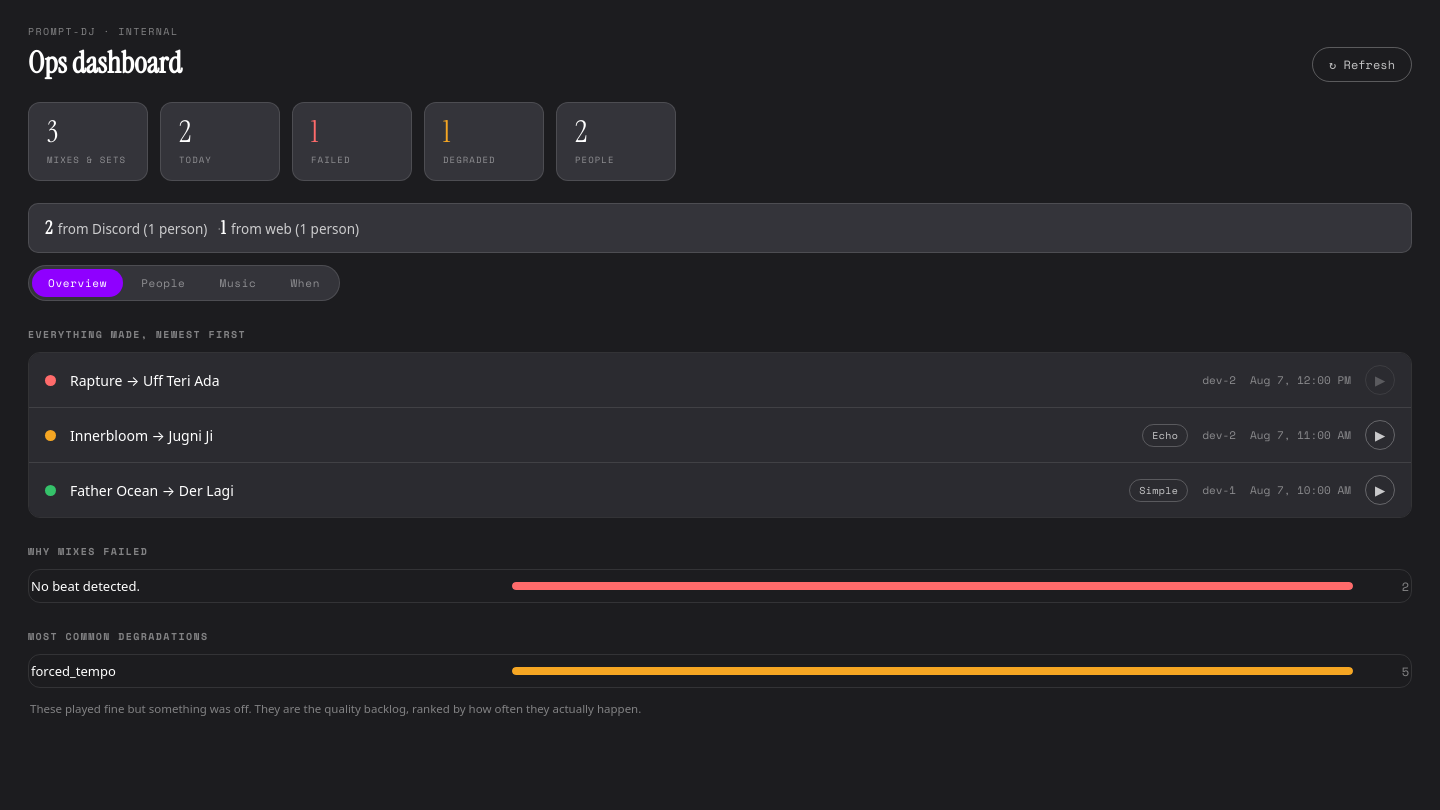
clicking a person opens their page with their songs, sittings and hours
Expected: the element with test id "event-list" is shown, x1=28 y1=352 x2=1412 y2=518
What coordinates should you click on to do the following:
click the tab "People"
I would click on:
 (163, 283)
Its box is x1=125 y1=269 x2=202 y2=297.
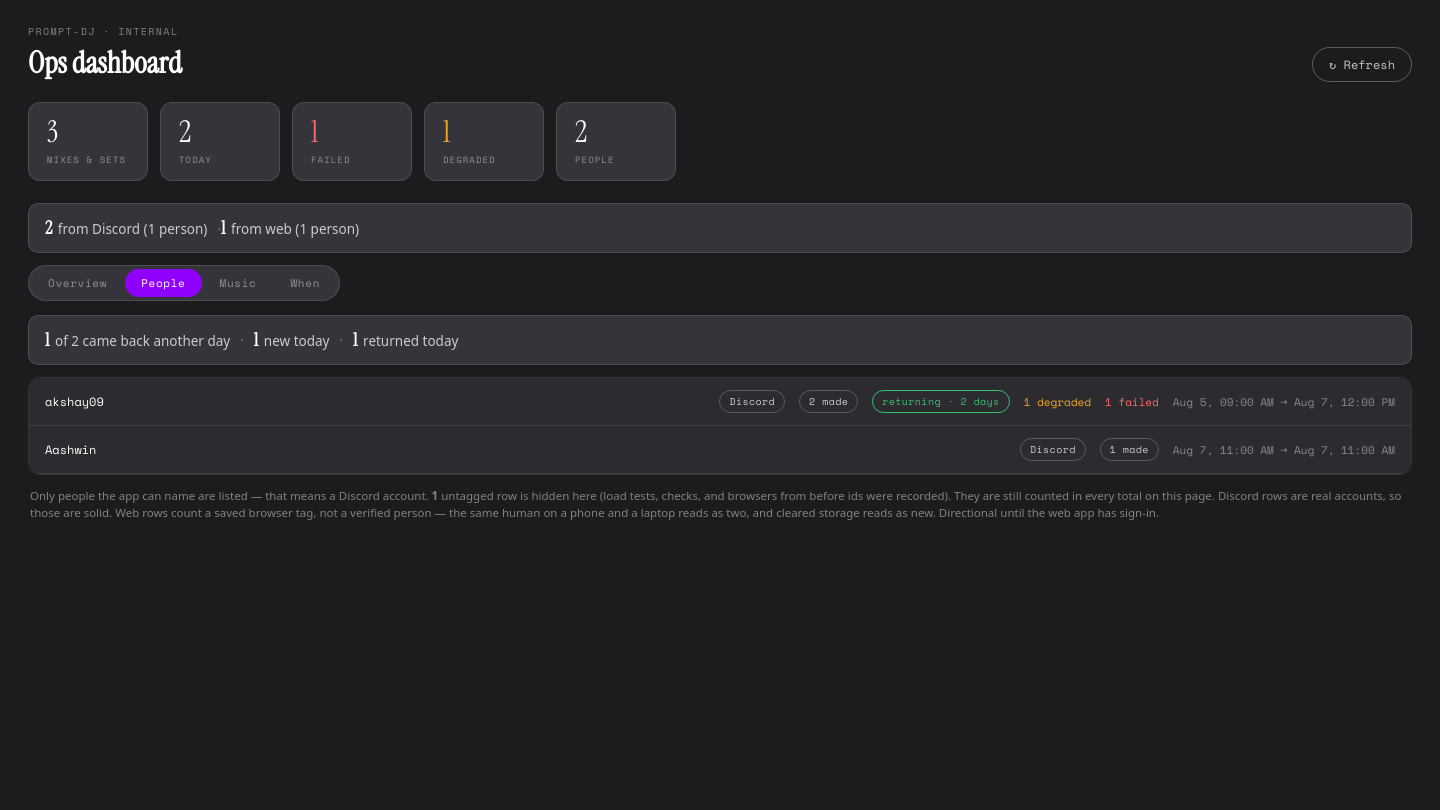
What coordinates should you click on to do the following:
click the button with aria-label "Open this person's page"
I would click on:
 (720, 402)
Its box is x1=29 y1=378 x2=1411 y2=426.
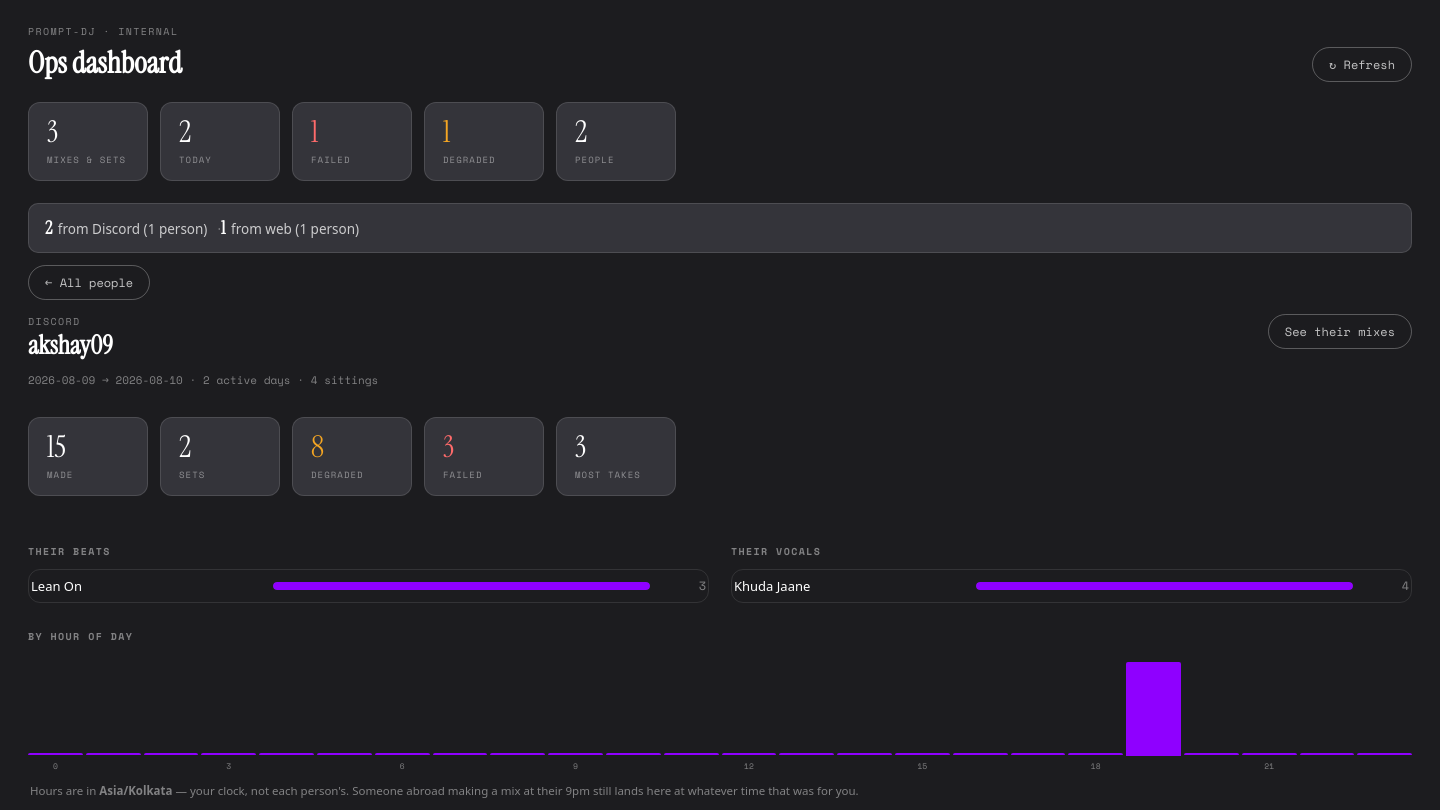
Now the heading "akshay09" is shown, box x1=28 y1=328 x2=113 y2=362
Now the text "2026-08-09 → 2026-08-10 · 2 active days · 4 sittings" is shown, box x1=28 y1=372 x2=378 y2=388
Now the text "Lean On" is shown, box x1=31 y1=577 x2=82 y2=595
